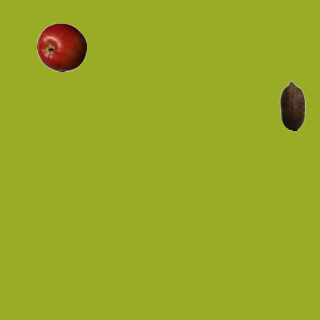Apple Braeburn: (36, 22, 86, 72)
Nut Pecan: (267, 80, 317, 130)
